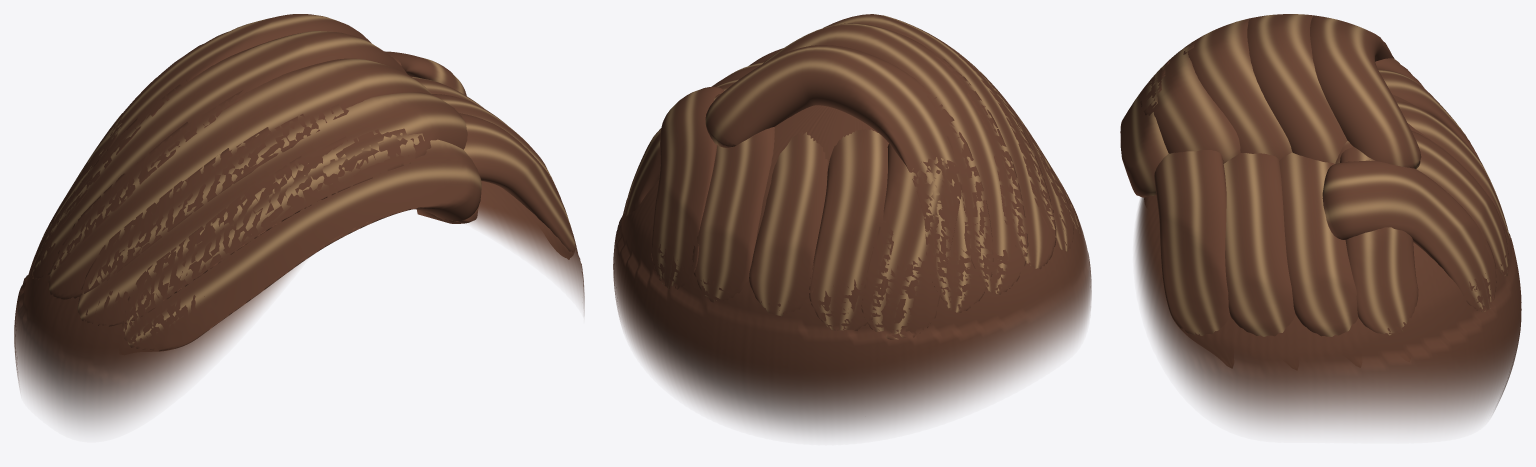
File: Highlights-4bbcb22e4b29252-hair.glb
The picture shows the model from 3 angles, left to right: view 1: azimuth 30°, elevation 25°; view 2: azimuth 150°, elevation 25°; view 3: azimuth 270°, elevation 25°; orthographic projection. The views are drawn at different scales.
Parts seen in each view (by area): view 1: 226 hair / Hair252 / sculpted locks.001, 226 hair / Hair252 / gentle tonal variation.001, 226 hair / Hair252 / restored153 fade coverage.001; view 2: 226 hair / Hair252 / sculpted locks.001, 226 hair / Hair252 / restored153 fade coverage.001, 226 hair / Hair252 / gentle tonal variation.001; view 3: 226 hair / Hair252 / sculpted locks.001, 226 hair / Hair252 / restored153 fade coverage.001, 226 hair / Hair252 / gentle tonal variation.001.
Part boxes in pixels (x1,y1,x2,y2): 226 hair / Hair252 / sculpted locks.001: (32,14,558,326); 226 hair / Hair252 / gentle tonal variation.001: (122,113,575,351); 226 hair / Hair252 / restored153 fade coverage.001: (14,181,584,427); 226 hair / Hair252 / sculpted locks.001: (624,14,1073,339); 226 hair / Hair252 / restored153 fade coverage.001: (613,105,1091,435); 226 hair / Hair252 / gentle tonal variation.001: (749,48,1080,330); 226 hair / Hair252 / sculpted locks.001: (1140,14,1510,336); 226 hair / Hair252 / restored153 fade coverage.001: (1135,93,1521,430); 226 hair / Hair252 / gentle tonal variation.001: (1120,59,1479,335).
Size of the model in its own units: 0.976 by 0.7525 by 0.7344.
3 materials, 3 textured.
